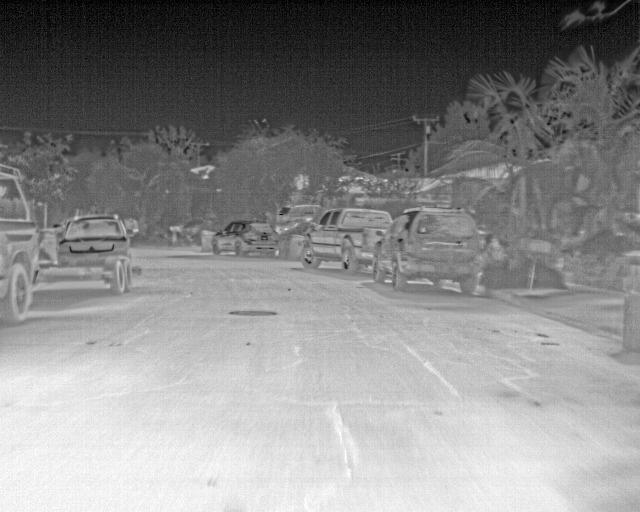car: (373, 204, 479, 297), (0, 161, 40, 326), (302, 205, 390, 273), (57, 213, 129, 269), (43, 258, 134, 295), (212, 221, 277, 261)
